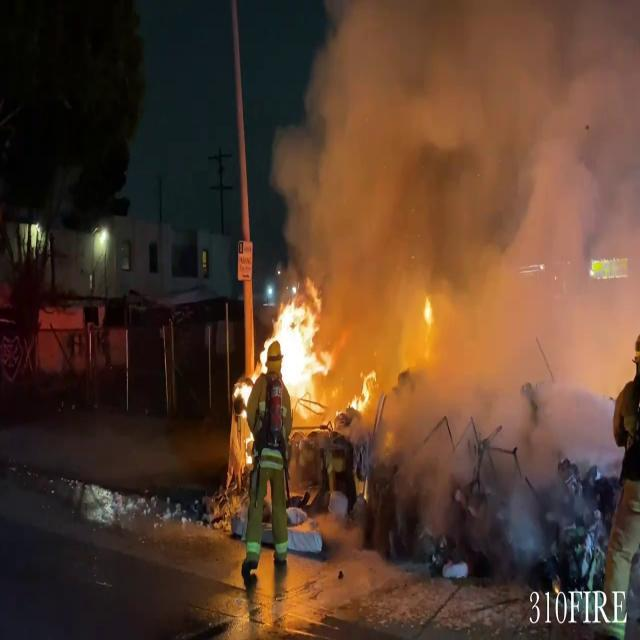Fire: (266, 290, 336, 414)
Smoke: (270, 1, 640, 507)
